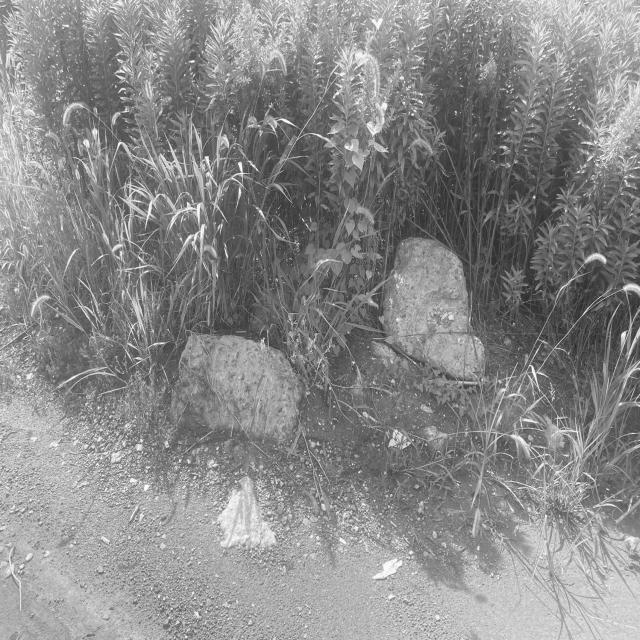Stone: (172, 335, 302, 443), (385, 240, 485, 379)
